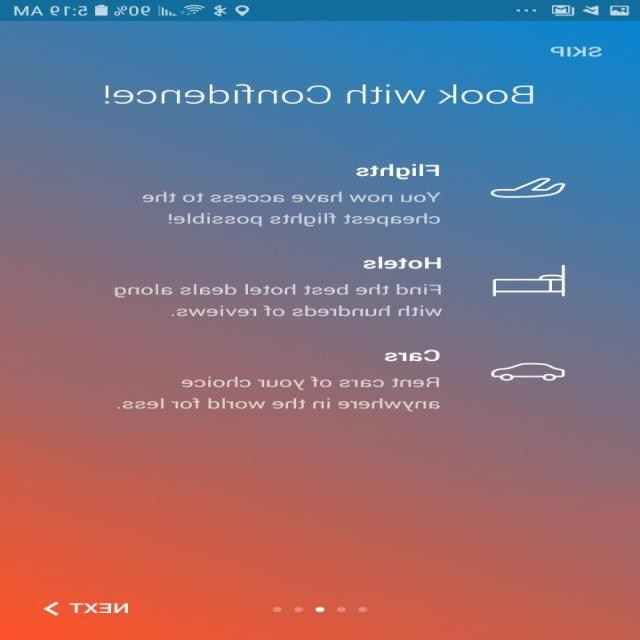Icon: (44, 601, 60, 615)
Image: (492, 264, 566, 297), (489, 178, 566, 198), (491, 362, 566, 381)
Text: (117, 376, 441, 411), (114, 284, 443, 316), (143, 191, 442, 226), (104, 83, 534, 105), (356, 163, 439, 180), (364, 256, 442, 269), (385, 349, 441, 361), (69, 602, 130, 613), (550, 46, 603, 57)
